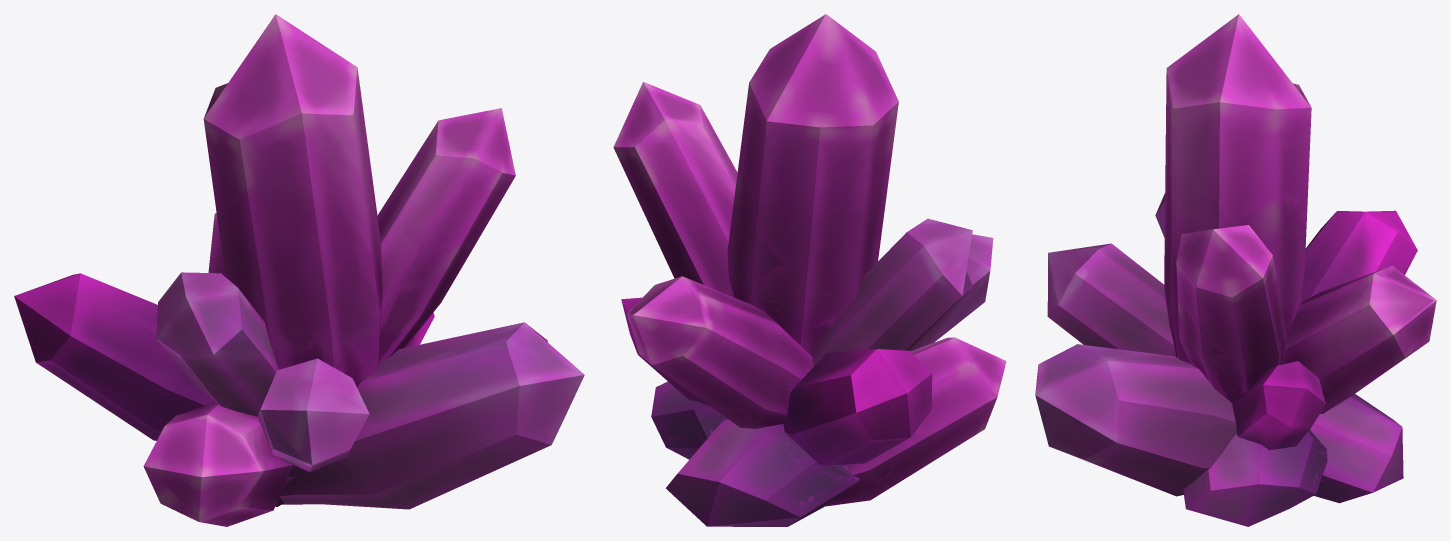
File: Ametista.fbx
3 views of the same model, side by side, from view 1: azimuth 30°, elevation 25°; view 2: azimuth 150°, elevation 25°; view 3: azimuth 270°, elevation 25° (orthographic). The views are drawn at different scales.
Parts seen in each view (by area): view 1: Ametista; view 2: Ametista; view 3: Ametista.
Boxes of the visible parts, bbox=[...] form: Ametista: bbox=[14, 14, 584, 526]; Ametista: bbox=[613, 14, 1006, 526]; Ametista: bbox=[1035, 14, 1436, 526].
Size of the model in its own units: 75.28 by 94.73 by 73.85.
1 material, 1 textured.
